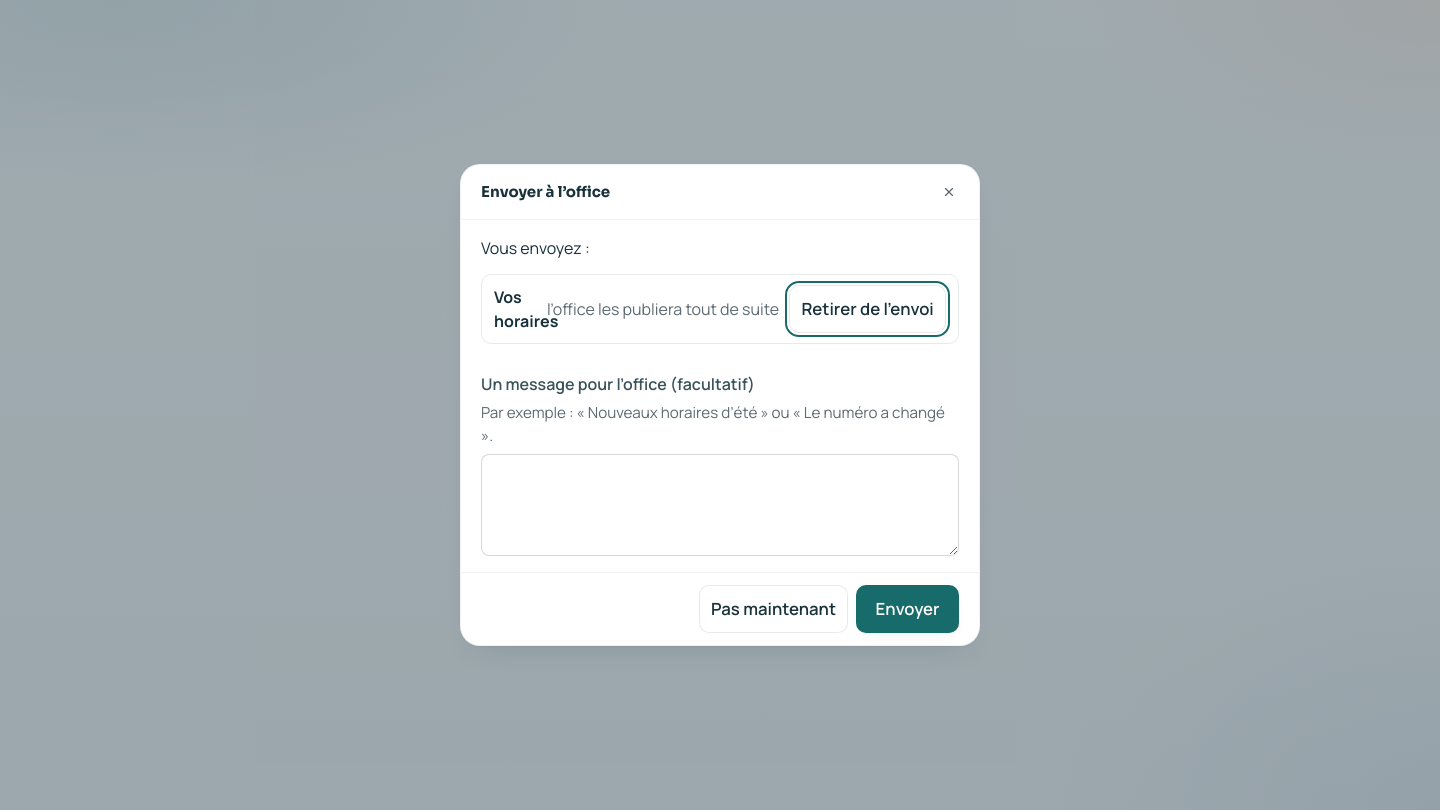
it: PortalSendModal › refuse tout RPC si la tranche baseline est indisponible malgré une rubrique dirty
Click the button "Envoyer" at (908, 609), box [856,585,959,633]
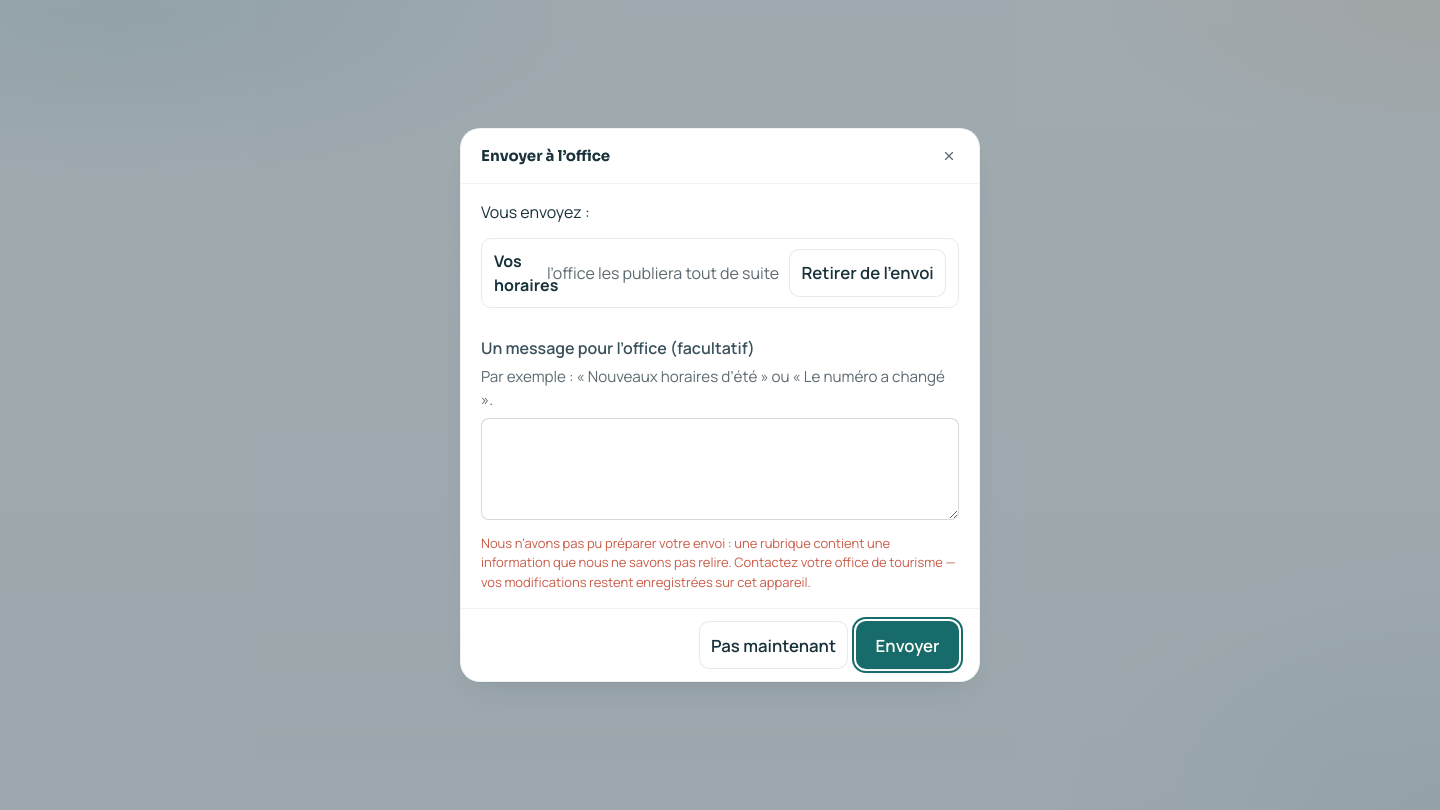
Expected: the message shows "préparer", [481,534,956,591]
